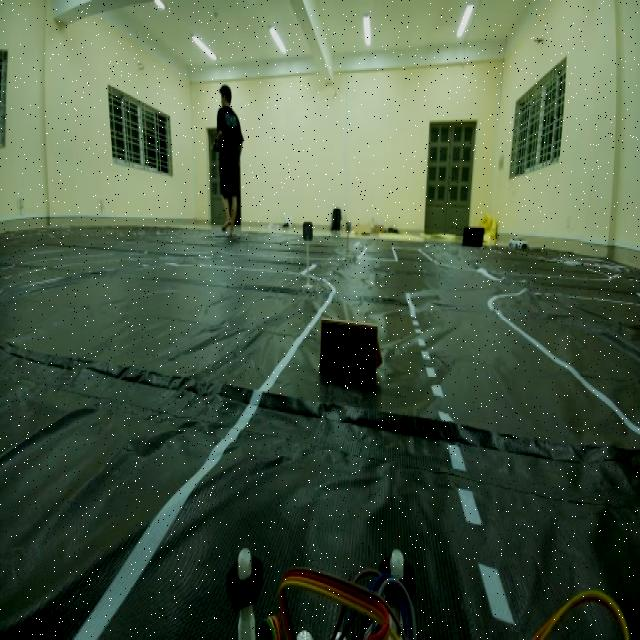roadblock: (317, 309, 385, 399)
